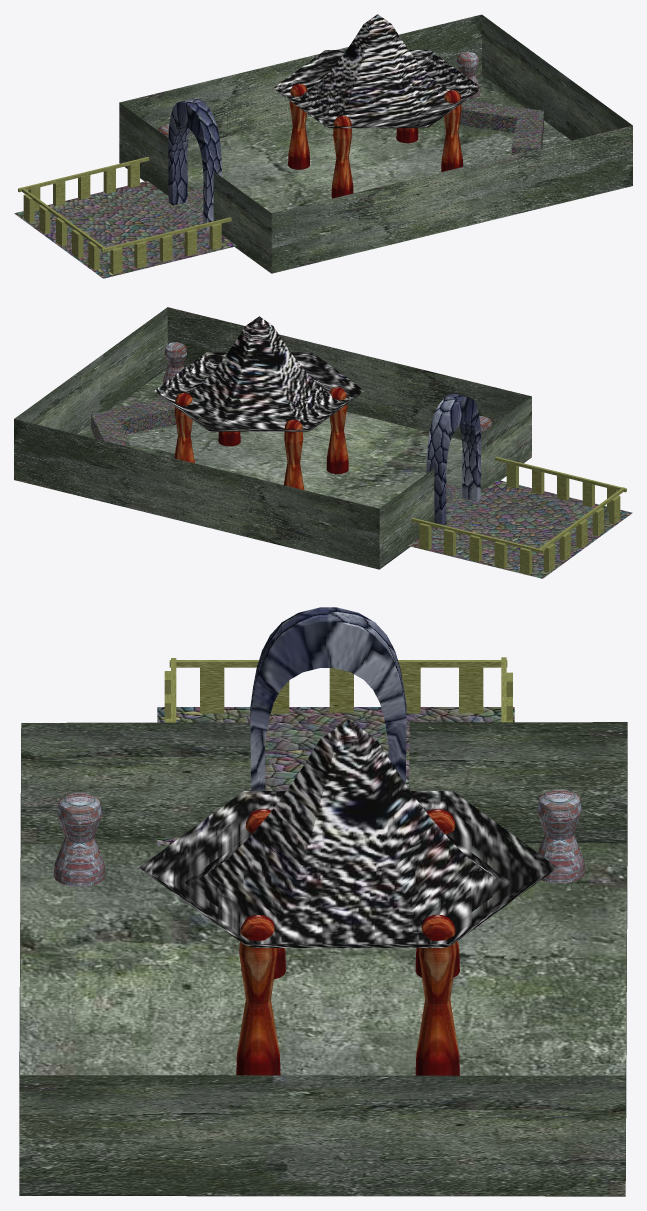
The picture shows the model from 3 angles, top to bottom: view 1: azimuth 30°, elevation 25°; view 2: azimuth 150°, elevation 25°; view 3: azimuth 270°, elevation 25°; orthographic projection. The views are drawn at different scales.
Visible parts, largest first — view 1: None_Material__12, None_Material__9, None_Material__13, None_Material__11, None_Material__10, None_Material__16, None_Material__15, None_Material__14, None_Material__6, None_Material__5, None_Material__8, None_Material__2; view 2: None_Material__12, None_Material__9, None_Material__13, None_Material__11, None_Material__10, None_Material__15, None_Material__14, None_Material__16, None_Material__6, None_Material__5, None_Material__7, None_Material__3; view 3: None_Material__12, None_Material__9, None_Material__11, None_Material__13, None_Material__14, None_Material__8, None_Material__7, None_Material__4, None_Material__1.
Part boxes in pixels (x1,y1,x2,y2): None_Material__12: [119, 14, 632, 273]; None_Material__9: [273, 14, 481, 128]; None_Material__13: [14, 181, 236, 278]; None_Material__11: [168, 98, 221, 230]; None_Material__10: [459, 100, 543, 154]; None_Material__16: [101, 217, 231, 274]; None_Material__15: [18, 157, 149, 211]; None_Material__14: [21, 187, 106, 270]; None_Material__6: [331, 115, 353, 198]; None_Material__5: [288, 83, 309, 169]; None_Material__8: [441, 90, 462, 171]; None_Material__2: [456, 51, 480, 98]; None_Material__12: [14, 307, 531, 569]; None_Material__9: [154, 316, 364, 431]; None_Material__13: [408, 480, 632, 578]; None_Material__11: [426, 393, 480, 525]; None_Material__10: [91, 398, 176, 447]; None_Material__15: [411, 518, 544, 574]; None_Material__14: [537, 487, 624, 572]; None_Material__16: [495, 456, 626, 511]; None_Material__6: [326, 387, 348, 473]; None_Material__5: [283, 419, 304, 489]; None_Material__7: [174, 393, 194, 463]; None_Material__3: [163, 342, 186, 383]; None_Material__12: [19, 722, 627, 1196]; None_Material__9: [139, 719, 557, 947]; None_Material__11: [250, 607, 406, 790]; None_Material__13: [157, 707, 514, 845]; None_Material__14: [169, 660, 507, 713]; None_Material__8: [236, 915, 280, 1075]; None_Material__7: [415, 915, 459, 1075]; None_Material__4: [53, 792, 105, 886]; None_Material__1: [537, 789, 585, 883].
Size of the model in its own units: 3.35 by 1.01 by 1.78.
